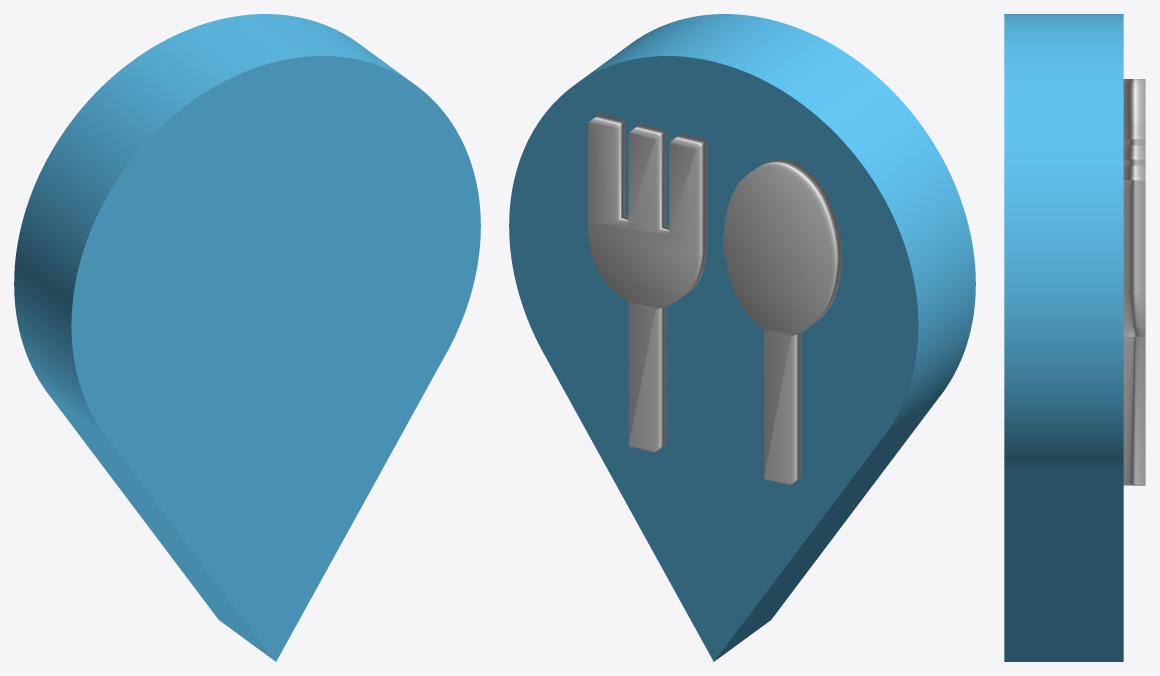
File: pin-alimentacion.glb
The picture shows the model from 3 angles, left to right: view 1: azimuth 30°, elevation 25°; view 2: azimuth 150°, elevation 25°; view 3: azimuth 270°, elevation 25°; orthographic projection. The views are drawn at different scales.
Visible parts, largest first — view 1: Curve.005; view 2: Curve.005; view 3: Curve.005.
Part boxes in pixels (bbox=[...]): Curve.005: bbox=[14, 14, 480, 661]; Curve.005: bbox=[509, 14, 975, 661]; Curve.005: bbox=[1004, 14, 1145, 661].
Bounding box in the file's own units: 2 × 2.8 × 0.5747.
